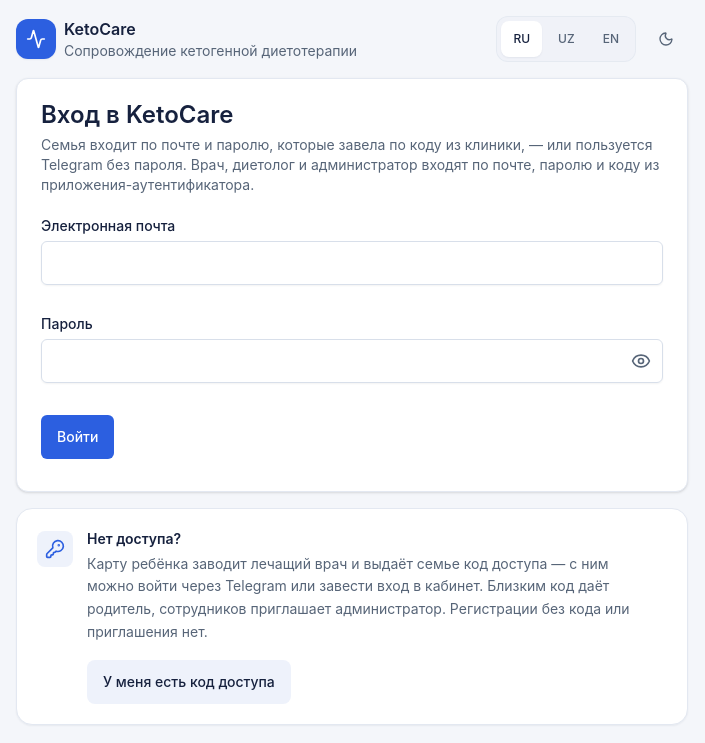
Scenario: вход со вторым фактором › после почты и пароля спрашивает код и НЕ обвиняет в неверном коде
This screenshot has width=705, height=743.
Step 1. Type "doctor@example.com" into the field labelled "Электронная почта" → coordinates (352, 262), box [41,240,663,284]
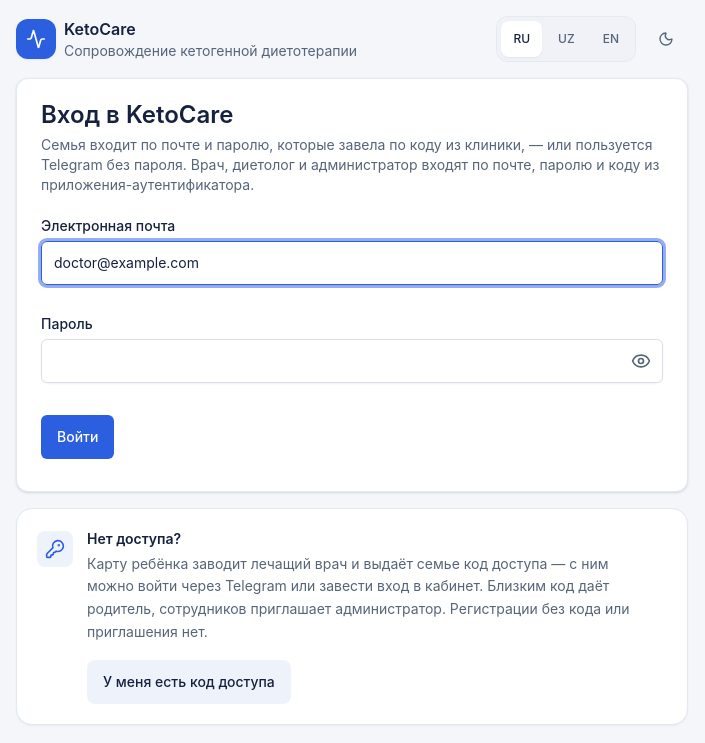
Step 2. Type "correct horse battery" into the password field labelled "Пароль" → coordinates (352, 360), box [41,338,663,382]
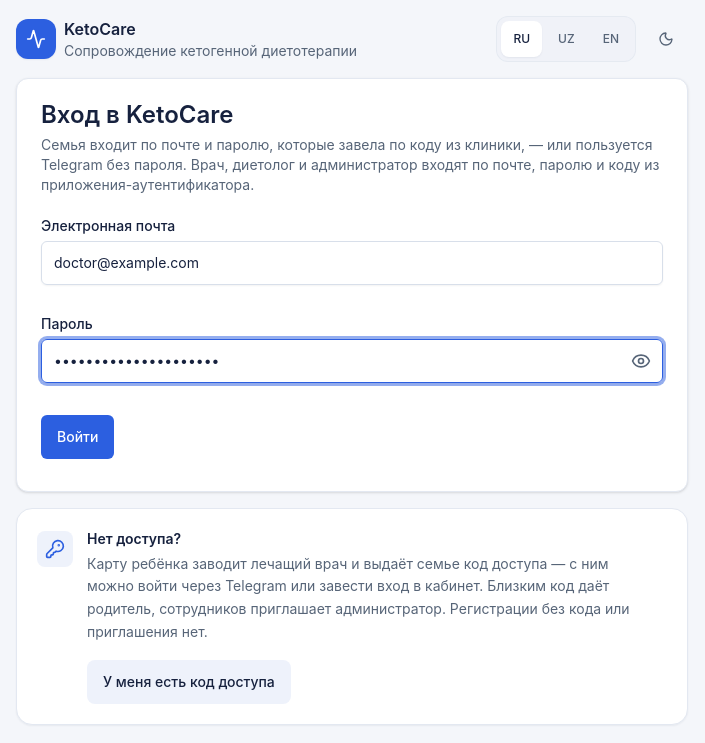
Step 3. Click the button "Войти" → coordinates (78, 436), box [41,414,114,458]
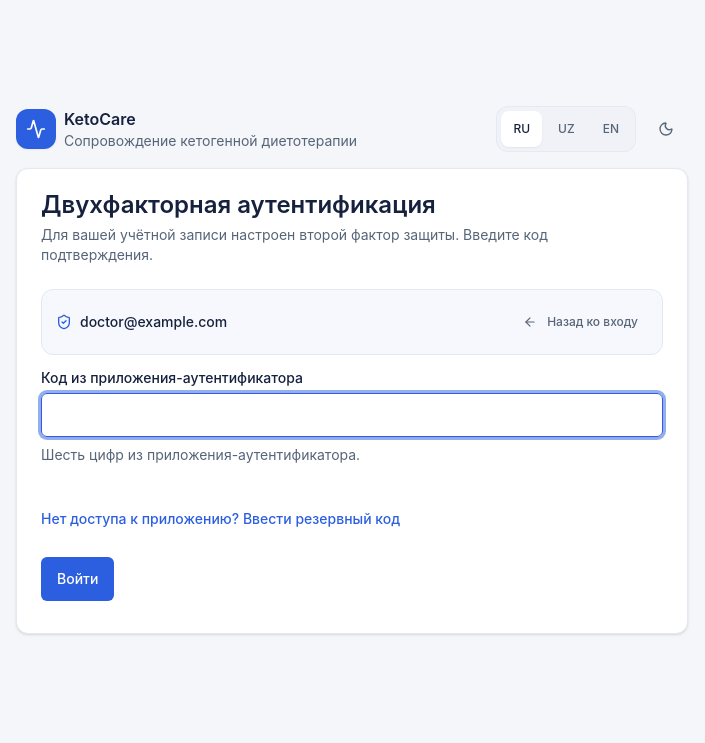
Check: the field labelled "Код из приложения-аутентификатора" is shown, box [41,393,663,437]
